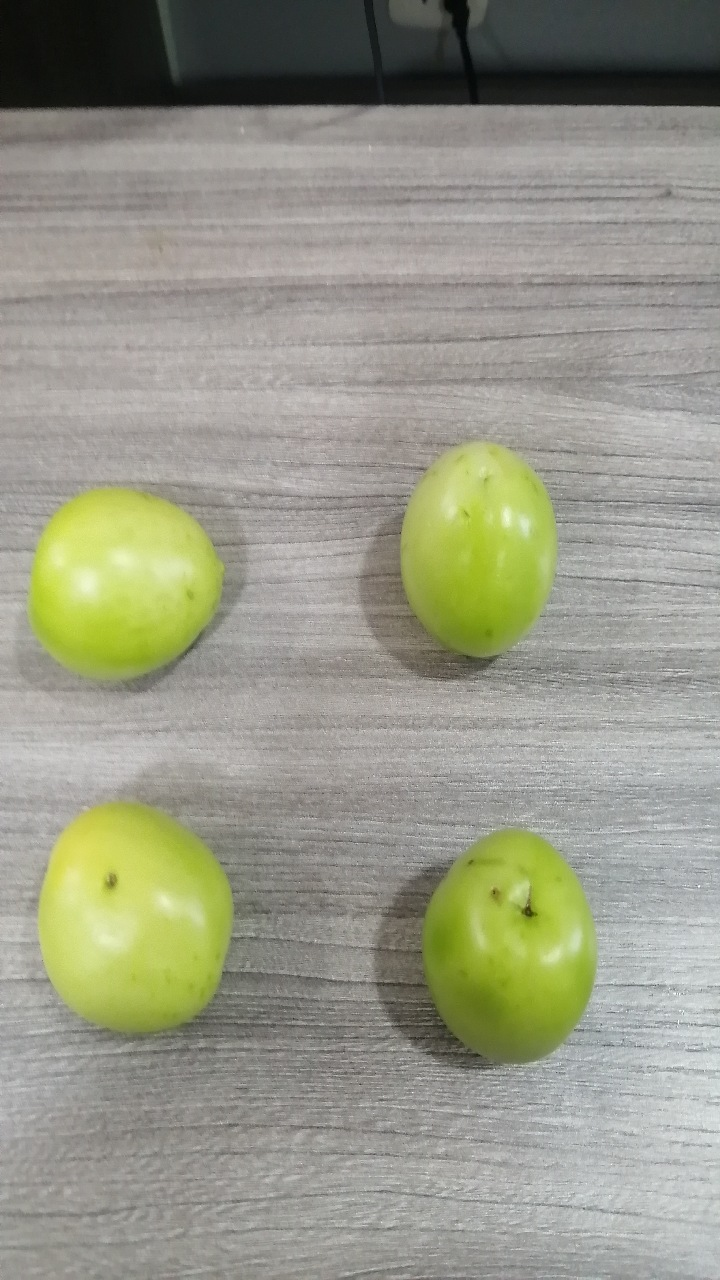tomateVerde: (9, 789, 244, 1055), (398, 815, 612, 1089), (3, 474, 240, 712), (371, 420, 568, 703)
